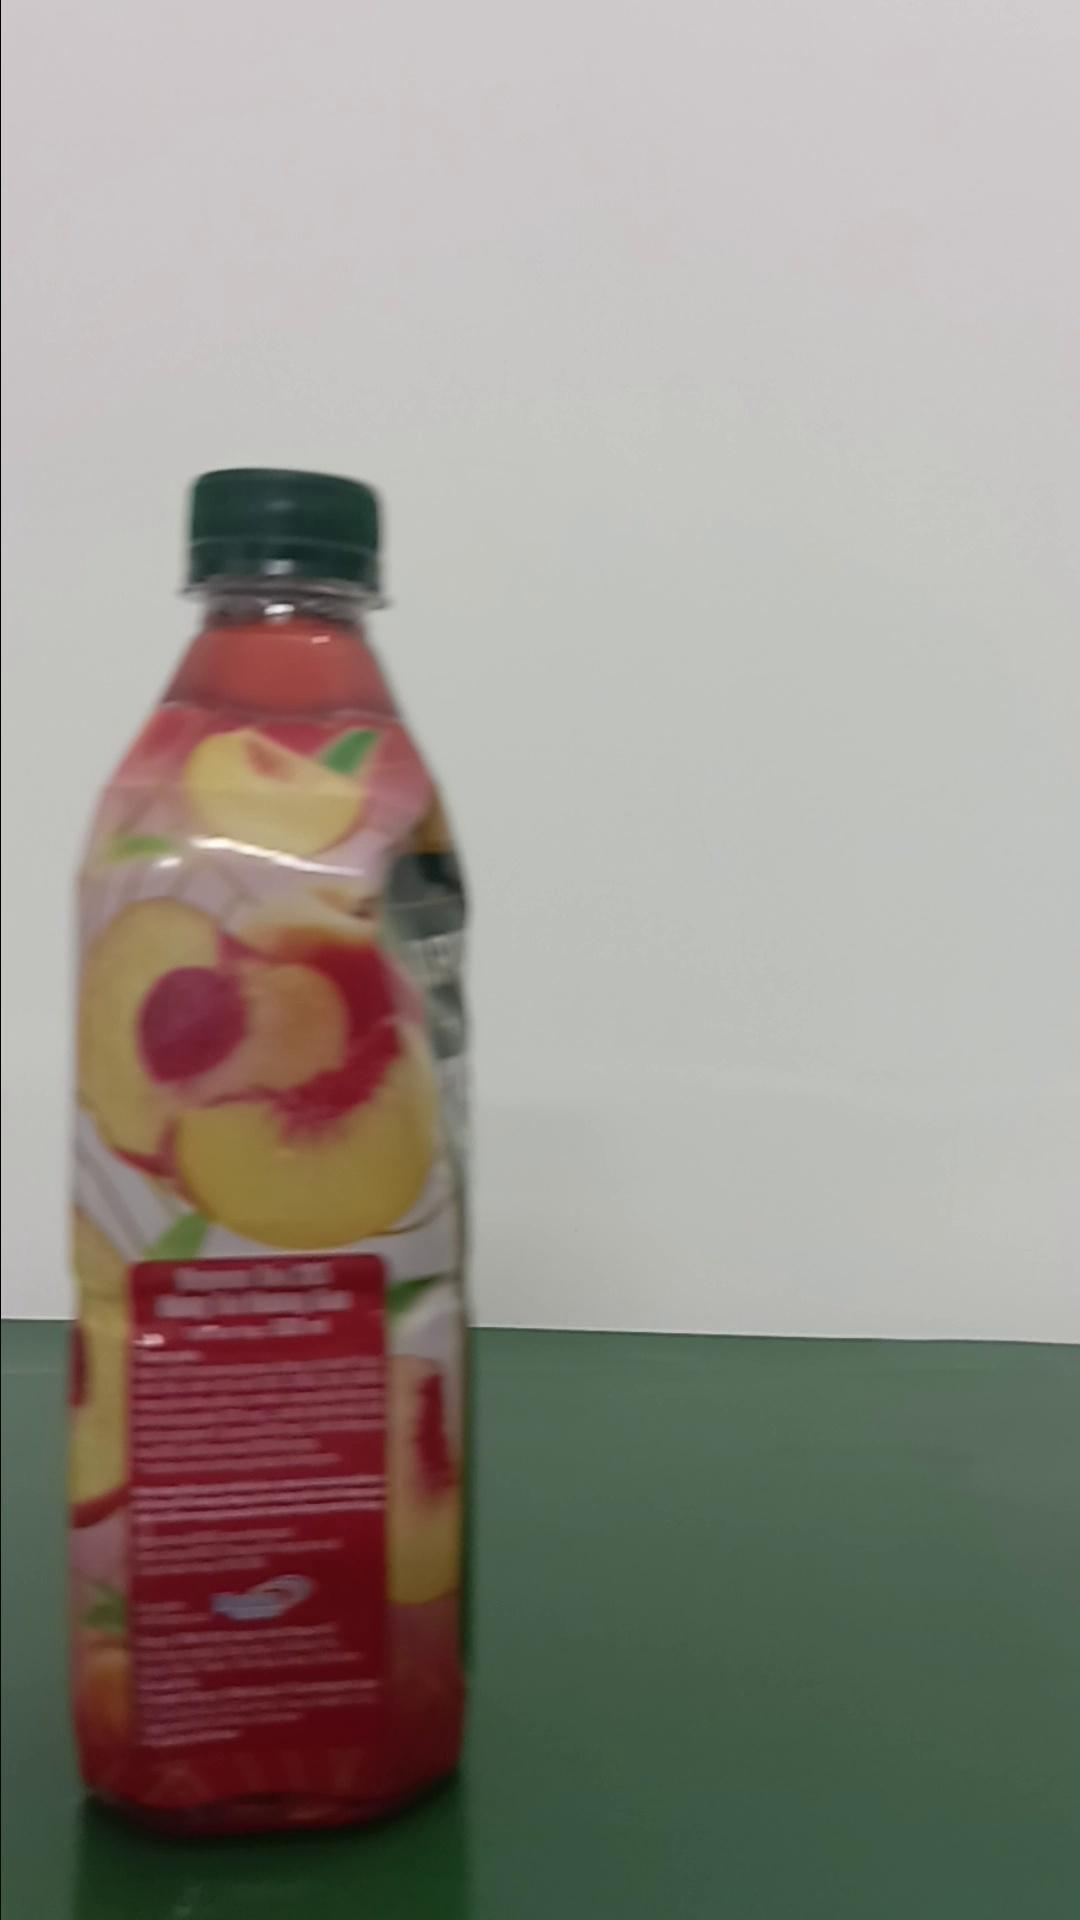loi meo sp: (65, 464, 476, 1834)
